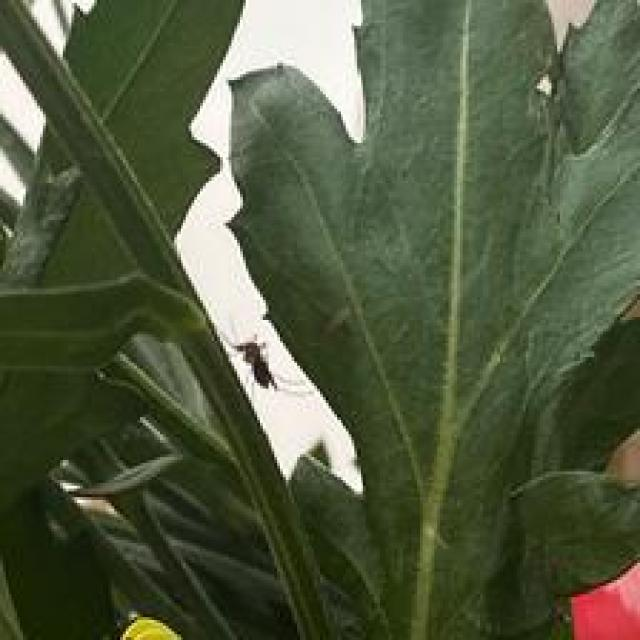Culex: (231, 334, 280, 392)
